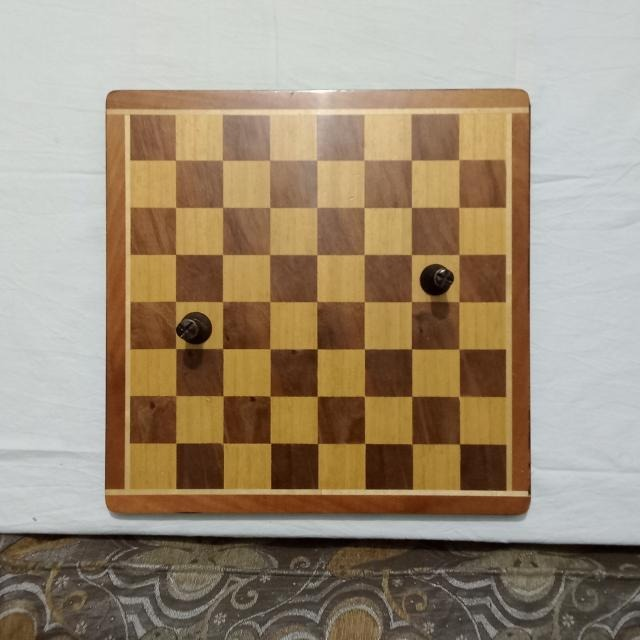black-rook: (175, 309, 215, 346), (419, 263, 457, 297)
